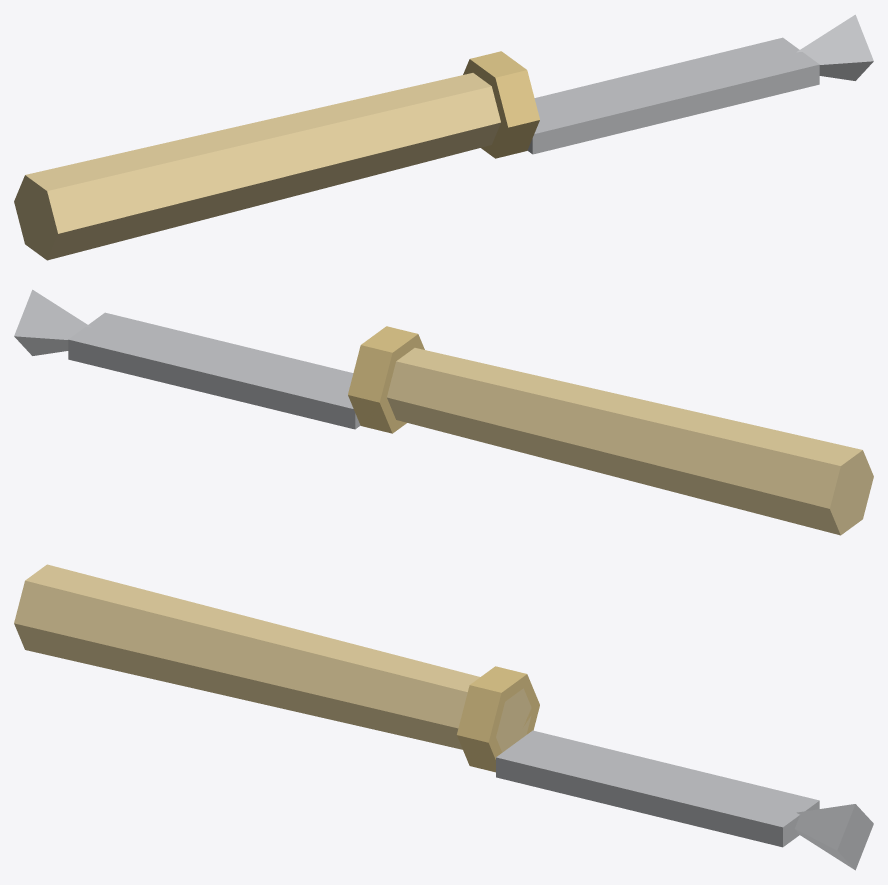
File: prop-quill-knife-qm1.fbx
3 renders of one model, top to bottom at view 1: azimuth 30°, elevation 25°; view 2: azimuth 150°, elevation 25°; view 3: azimuth 330°, elevation 25°, orthographic.
Parts seen in each view (by area): view 1: prop-quill-knife-qm1; view 2: prop-quill-knife-qm1; view 3: prop-quill-knife-qm1.
Part boxes in pixels (x1,y1,x2,y2): prop-quill-knife-qm1: (14, 14, 873, 260); prop-quill-knife-qm1: (14, 289, 873, 535); prop-quill-knife-qm1: (14, 564, 873, 870).
Size of the model in its own units: 12.85 by 1.56 by 1.4.
